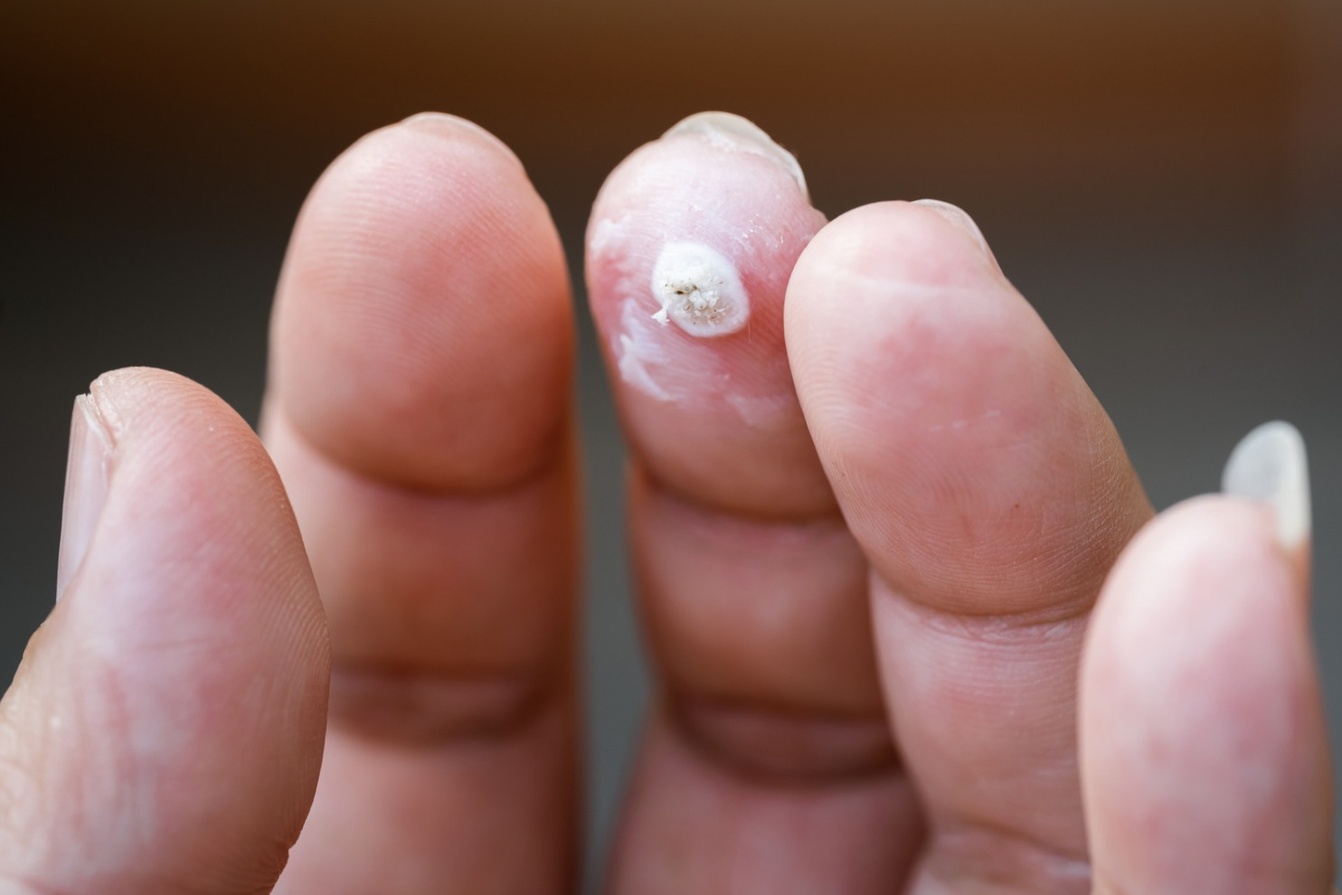Warts: (628, 204, 767, 378)
